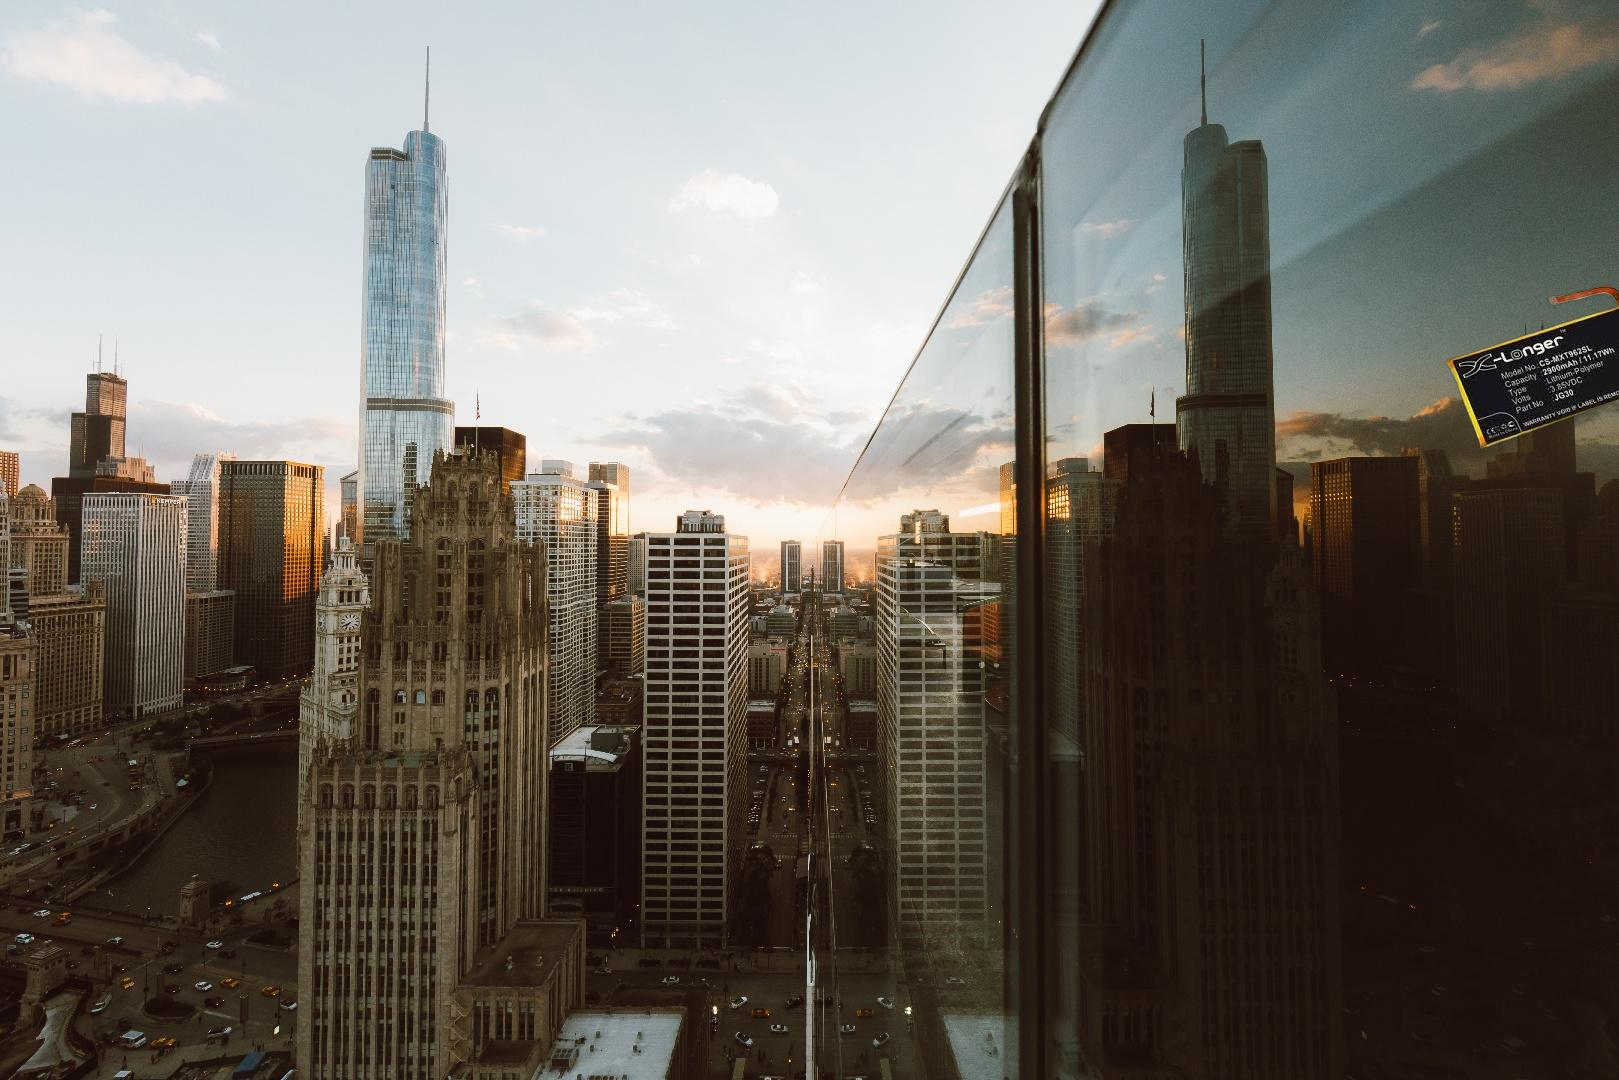battery: (1444, 283, 1619, 452)
